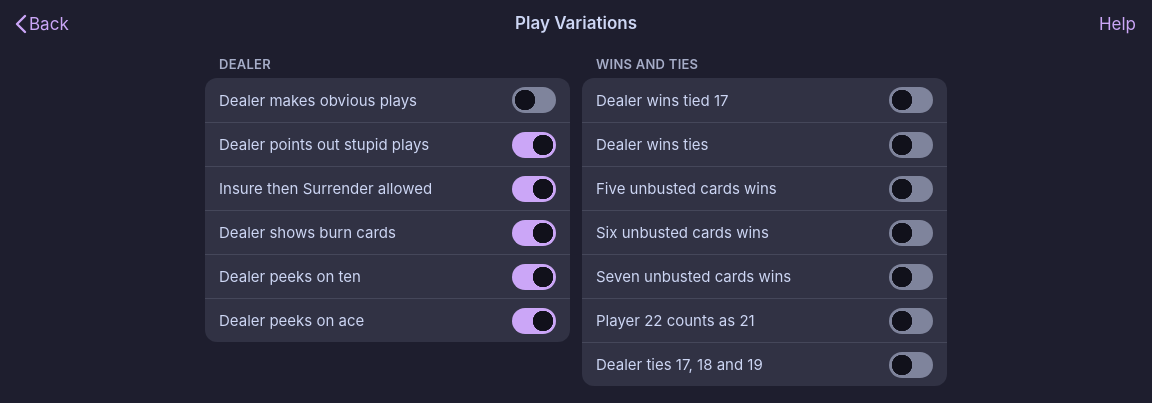
Test case: rule interactions › unchecking peek on ace unchecks peek on ten
Expected: the switch named "Dealer peeks on ten" is checked, [512,264,556,290]
Click the switch named "Dealer peeks on ace" at (534, 320), box [512,308,556,334]
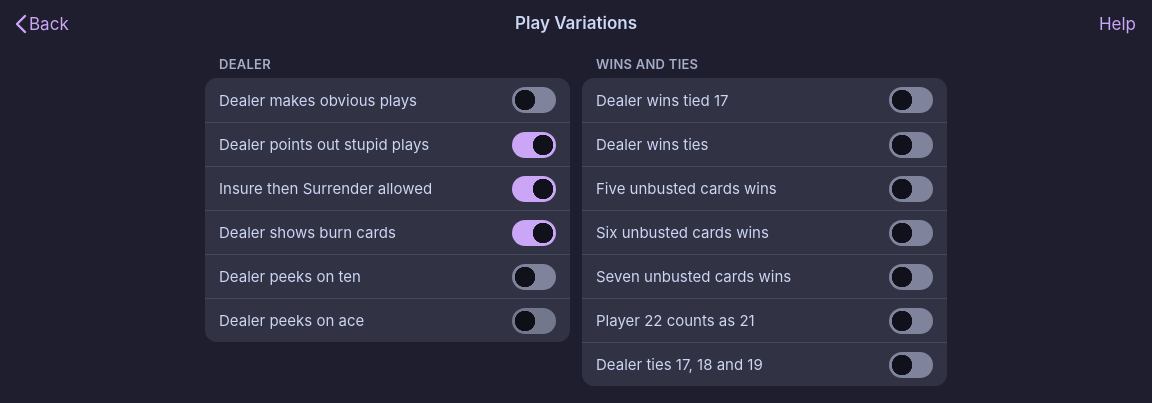
Expected: the switch named "Dealer peeks on ten" is not checked, [512,264,556,290]
